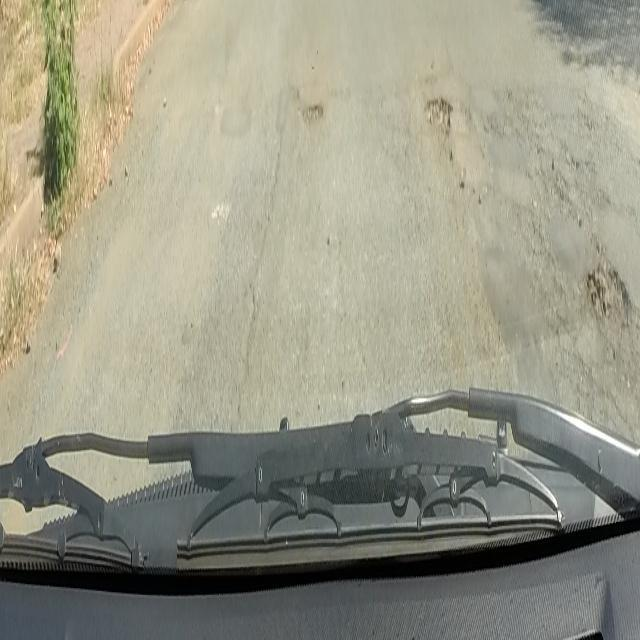pothole: (592, 255, 624, 332), (422, 90, 456, 136), (300, 100, 324, 128)
